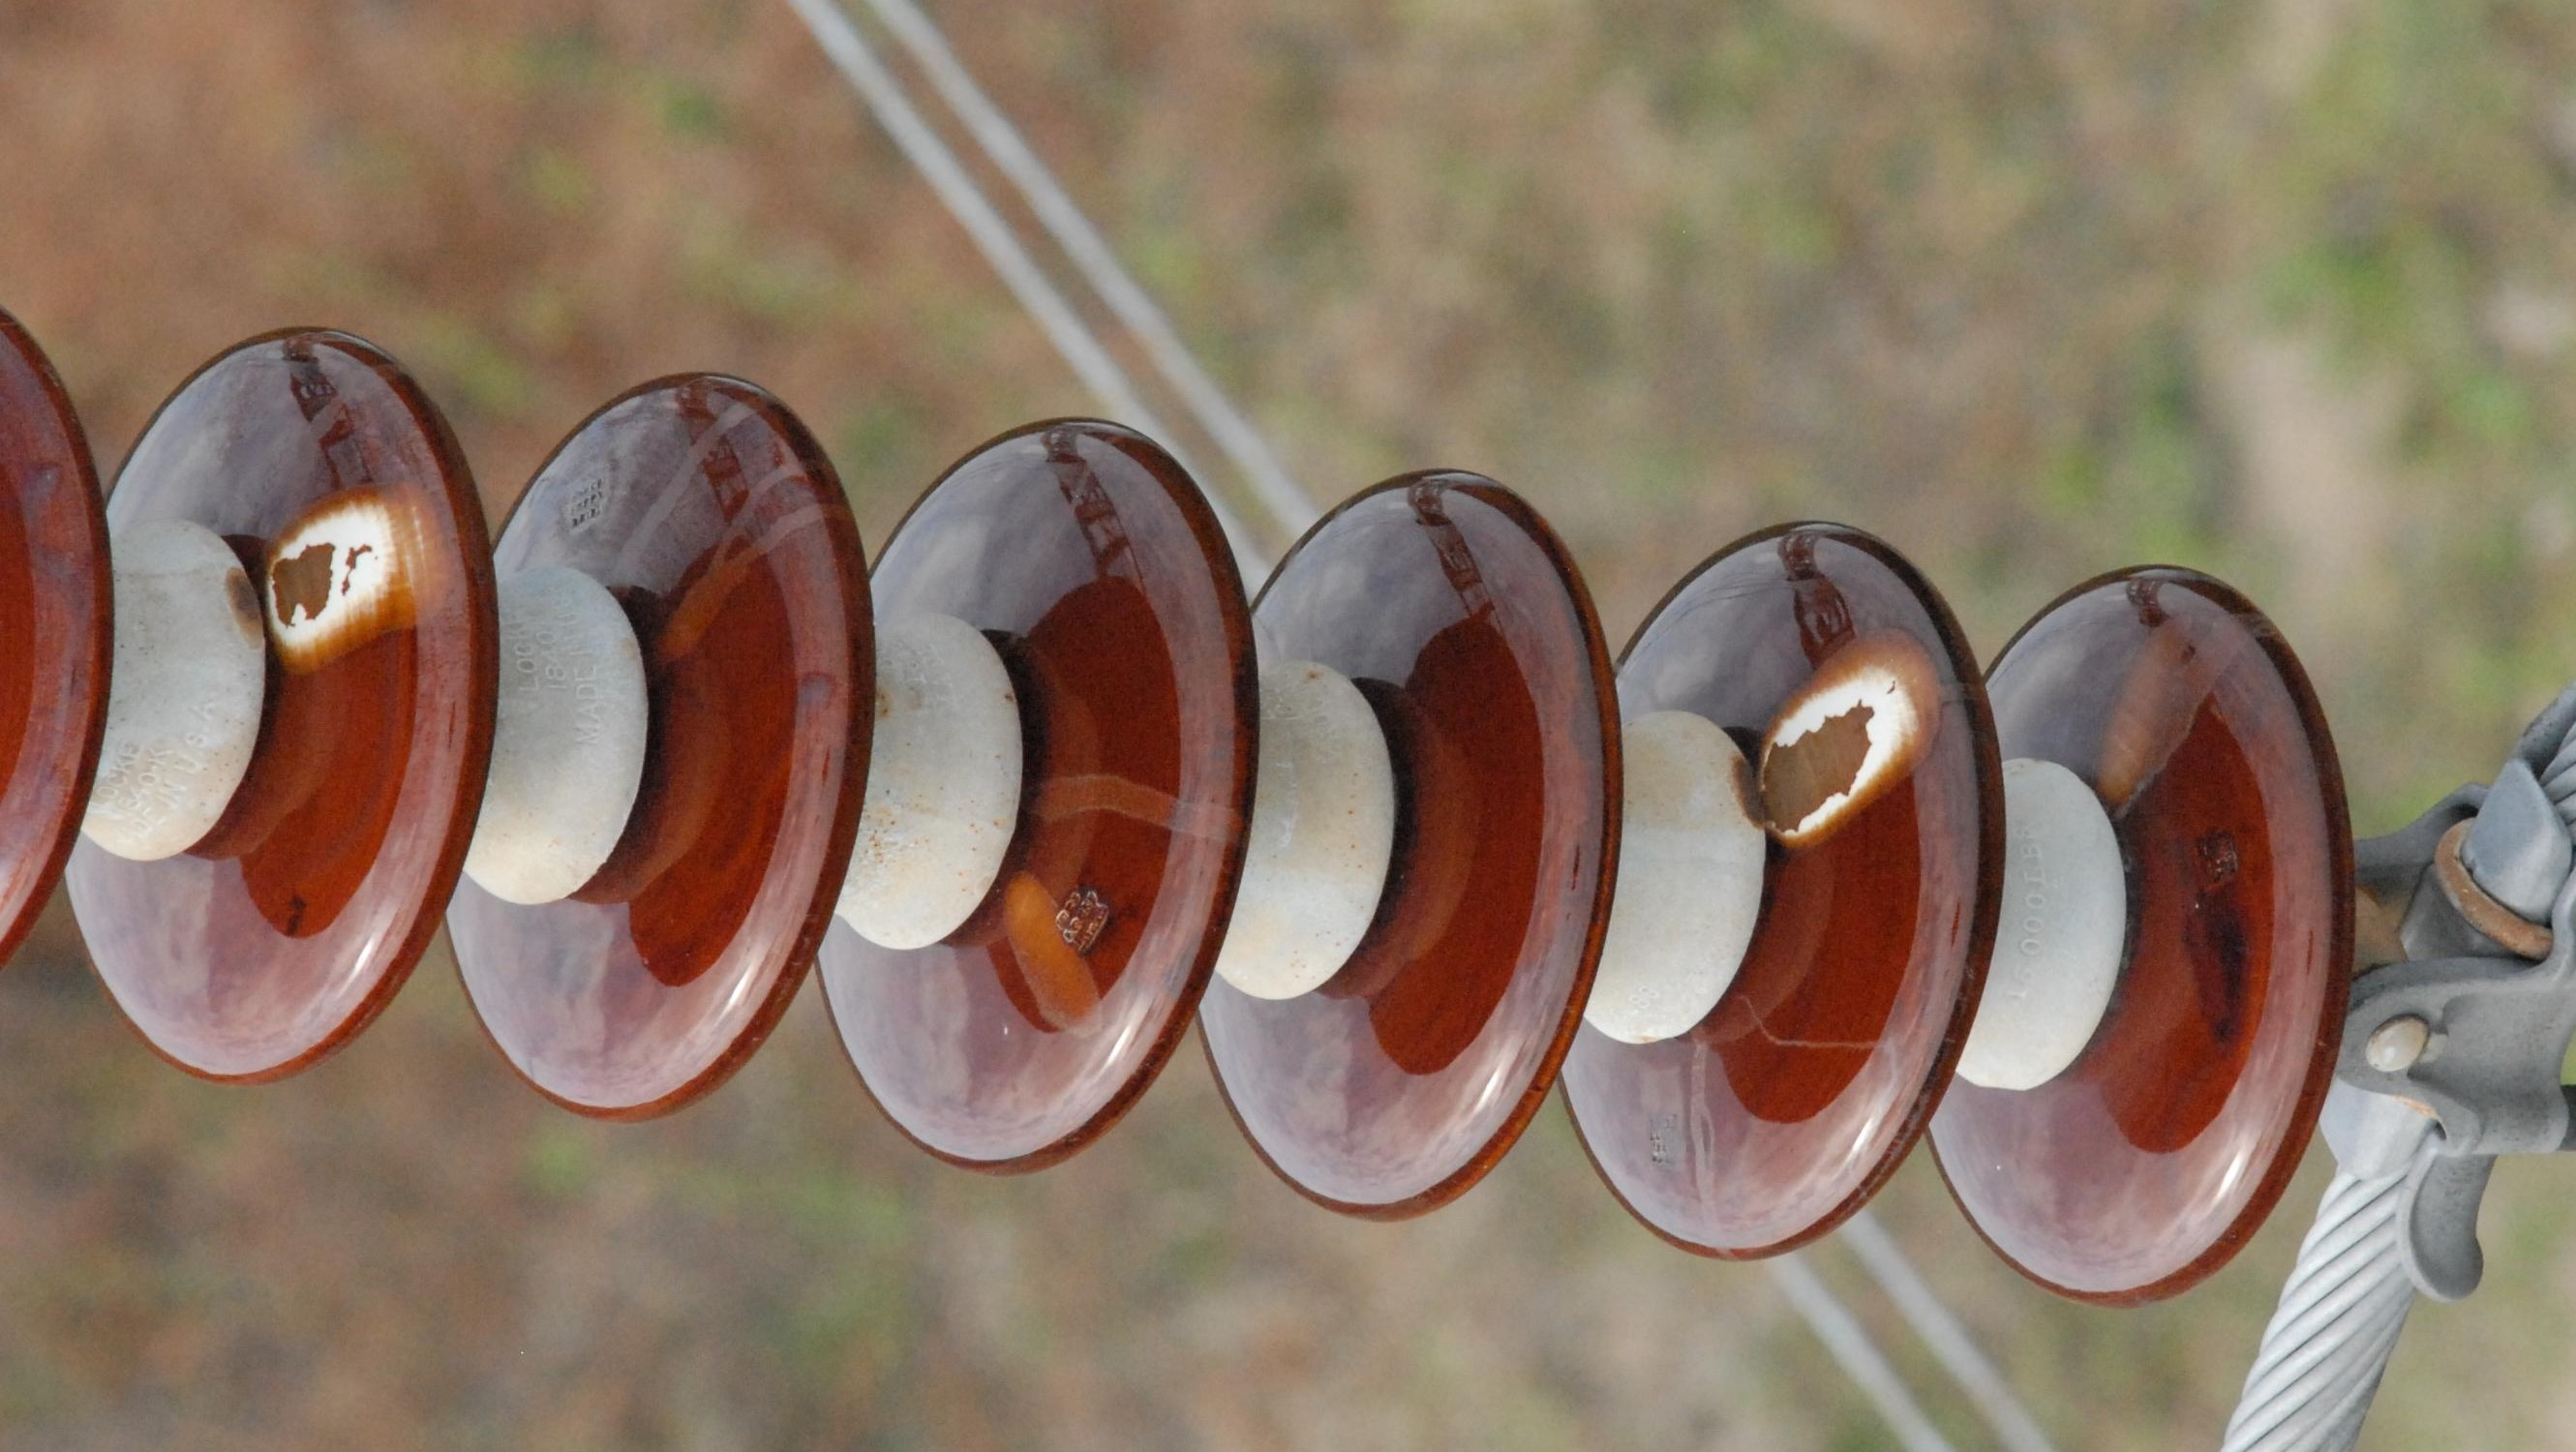Insulator flashover: (1568, 504, 2015, 1272), (71, 318, 510, 1093)
